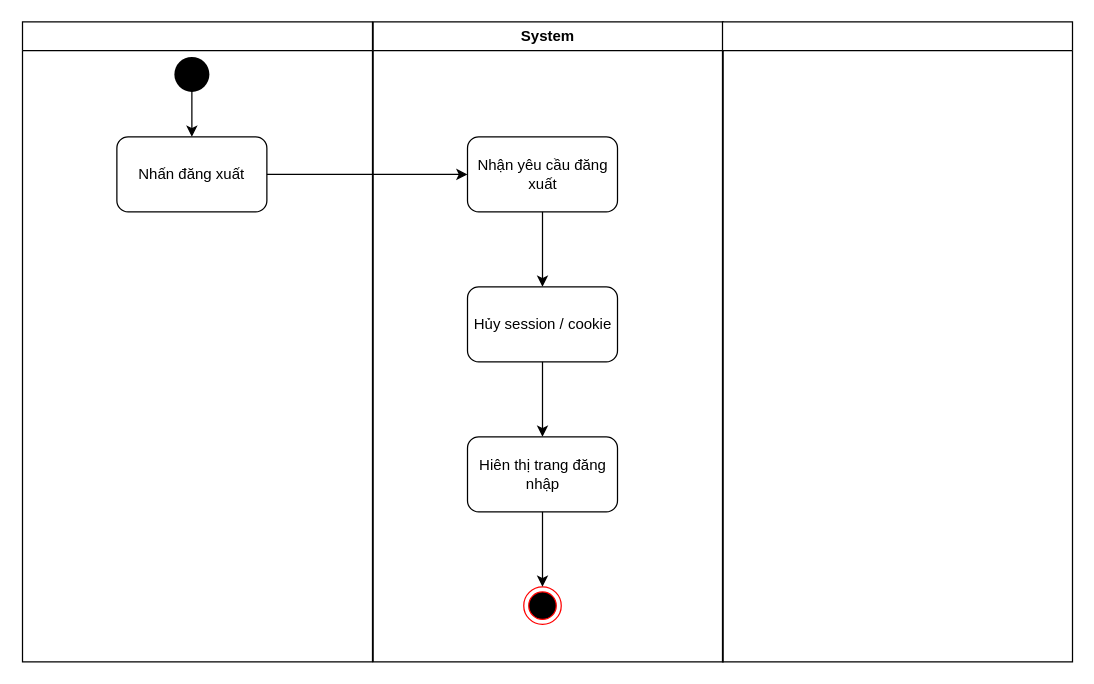
Image size: 1094x684. Some labels were removed from this diagram. Here are the shapes that lost their labels. From the top down, the box of each, then its label:
(21, 21, 372, 662): Customer / Admin
(721, 21, 1072, 662): Database
